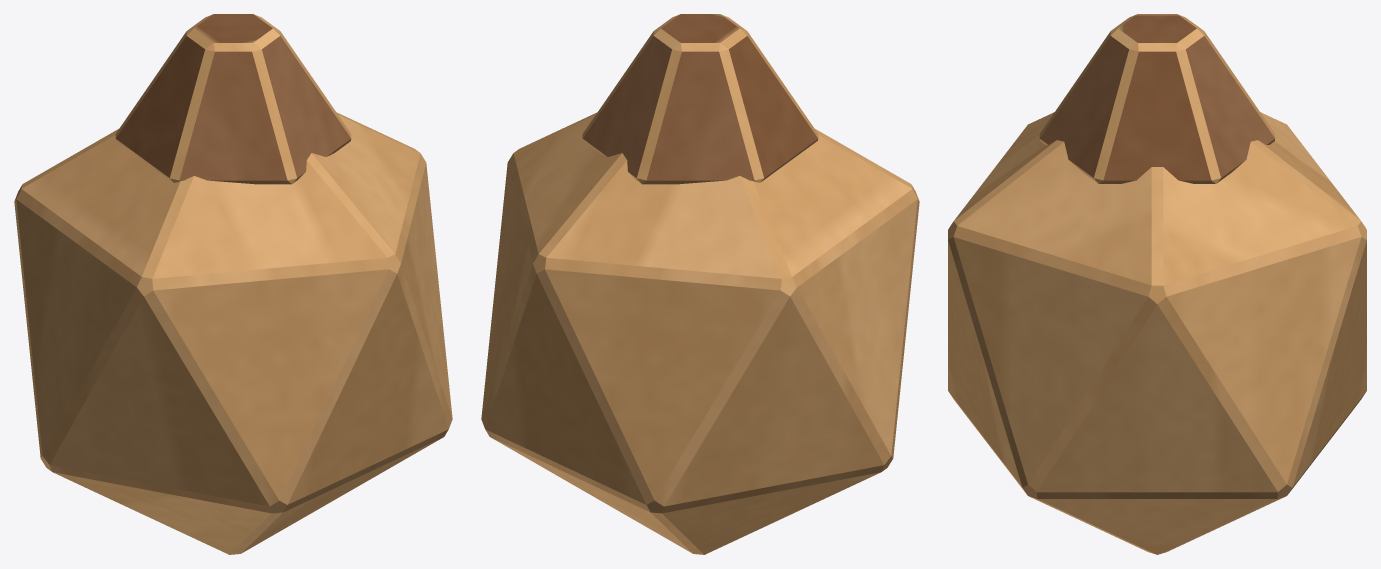
Rendered from sm_prop_sack.glb.
3 renders of one model, left to right at view 1: azimuth 30°, elevation 25°; view 2: azimuth 150°, elevation 25°; view 3: azimuth 270°, elevation 25°, orthographic.
Visible parts, largest first — view 1: sm_prop_sack; view 2: sm_prop_sack; view 3: sm_prop_sack.
Part boxes in pixels (box(x1,y1,x2,y2)): sm_prop_sack: box(14, 14, 452, 554); sm_prop_sack: box(481, 14, 919, 554); sm_prop_sack: box(948, 14, 1366, 554).
Size of the model in its own units: 0.2833 by 0.3707 by 0.2694.
Materials: 1 (1 with a texture image).
